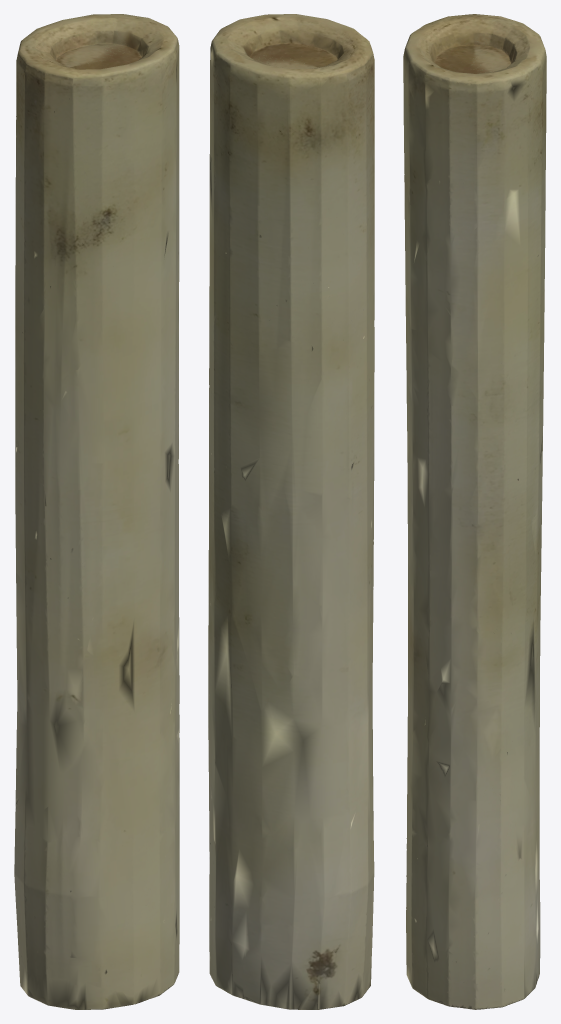
The model's file is jade-tube-detail.glb.
3 renders of one model, left to right at view 1: azimuth 30°, elevation 25°; view 2: azimuth 150°, elevation 25°; view 3: azimuth 270°, elevation 25°, orthographic.
Visible parts, largest first — view 1: node_0; view 2: node_0; view 3: node_0.
Boxes of the visible parts, x1=… form: node_0: x1=14, y1=14, x2=179, y2=1009; node_0: x1=208, y1=14, x2=374, y2=1009; node_0: x1=403, y1=14, x2=546, y2=1009.
Bounding box in the file's own units: 0.1982 × 1.19 × 0.1651.
Materials: 1 (1 with a texture image).
